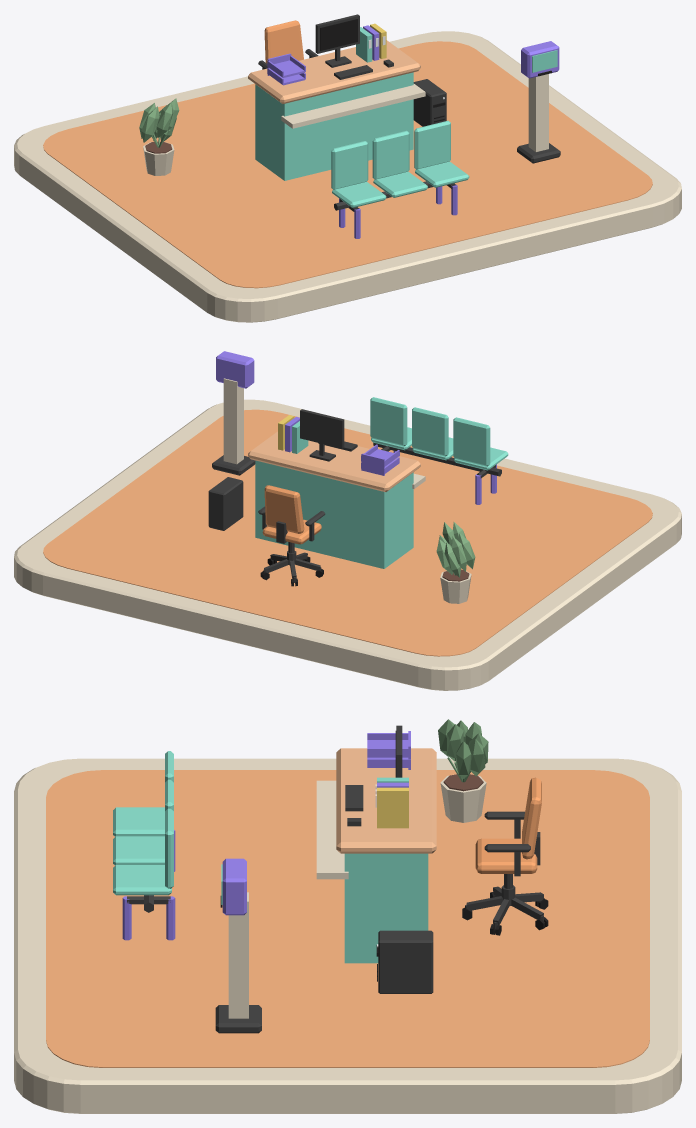
The picture shows the model from 3 angles, top to bottom: view 1: azimuth 30°, elevation 25°; view 2: azimuth 150°, elevation 25°; view 3: azimuth 270°, elevation 25°; orthographic projection. The views are drawn at different scales.
Parts seen in each view (by area): view 1: COM-02 Floor Surface, COM-01 Rounded Base Direct, Counter body, Countertop, Pot, Visitor shelf, Frame, Back, Back.001, Pedestal, Back.002, COM-04_Chair_blender_direct (+6 smaller); view 2: COM-02 Floor Surface, COM-01 Rounded Base Direct, Counter body, Countertop, COM-04_Chair_blender_direct, Pot, Pedestal, Tower, Frame, Back.002, Back, Back.001 (+2 smaller); view 3: COM-02 Floor Surface, COM-01 Rounded Base Direct, Counter body, Countertop, COM-04_Chair_blender_direct, Pot, Tower, Visitor shelf, Pedestal, Seat.002, Seat, Seat.001 (+4 smaller).
Boxes of the visible parts, x1=… form: COM-02 Floor Surface: x1=43, y1=41, x2=652, y2=288; COM-01 Rounded Base Direct: x1=14, y1=31, x2=681, y2=322; Counter body: x1=255, y1=72, x2=413, y2=180; Countertop: x1=248, y1=40, x2=420, y2=103; Pot: x1=139, y1=98, x2=179, y2=175; Visitor shelf: x1=281, y1=84, x2=425, y2=128; Frame: x1=315, y1=14, x2=359, y2=67; Back: x1=331, y1=141, x2=368, y2=189; Back.001: x1=372, y1=130, x2=409, y2=179; Pedestal: x1=528, y1=74, x2=548, y2=151; Back.002: x1=414, y1=120, x2=450, y2=169; COM-04_Chair_blender_direct: x1=258, y1=20, x2=318, y2=69; COM-02 Floor Surface: x1=43, y1=409, x2=652, y2=656; COM-01 Rounded Base Direct: x1=14, y1=399, x2=681, y2=690; Counter body: x1=255, y1=460, x2=413, y2=568; Countertop: x1=248, y1=431, x2=420, y2=492; COM-04_Chair_blender_direct: x1=258, y1=485, x2=325, y2=586; Pot: x1=436, y1=522, x2=475, y2=603; Pedestal: x1=223, y1=378, x2=243, y2=464; Tower: x1=208, y1=477, x2=243, y2=530; Frame: x1=300, y1=409, x2=344, y2=461; Back.002: x1=370, y1=397, x2=407, y2=446; Back: x1=453, y1=417, x2=490, y2=466; Back.001: x1=412, y1=407, x2=448, y2=456; COM-02 Floor Surface: x1=46, y1=770, x2=649, y2=1067; COM-01 Rounded Base Direct: x1=14, y1=758, x2=681, y2=1113; Counter body: x1=344, y1=853, x2=428, y2=963; Countertop: x1=336, y1=748, x2=436, y2=853; COM-04_Chair_blender_direct: x1=462, y1=777, x2=548, y2=935; Pot: x1=438, y1=719, x2=488, y2=822; Tower: x1=378, y1=930, x2=433, y2=993; Visitor shelf: x1=316, y1=780, x2=348, y2=879; Pedestal: x1=228, y1=892, x2=248, y2=1018; Seat.002: x1=113, y1=865, x2=171, y2=895; Seat: x1=113, y1=807, x2=164, y2=836; Seat.001: x1=113, y1=836, x2=164, y2=865.
Size of the model in its own units: 6 by 1.87 by 5.2.
Materials: 1 (1 with a texture image).
